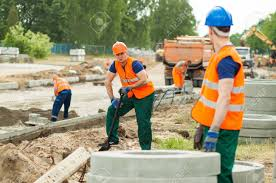helmet: (205, 6, 233, 27), (112, 40, 127, 55)
vest: (196, 52, 244, 127), (115, 64, 152, 97), (56, 79, 72, 92)
